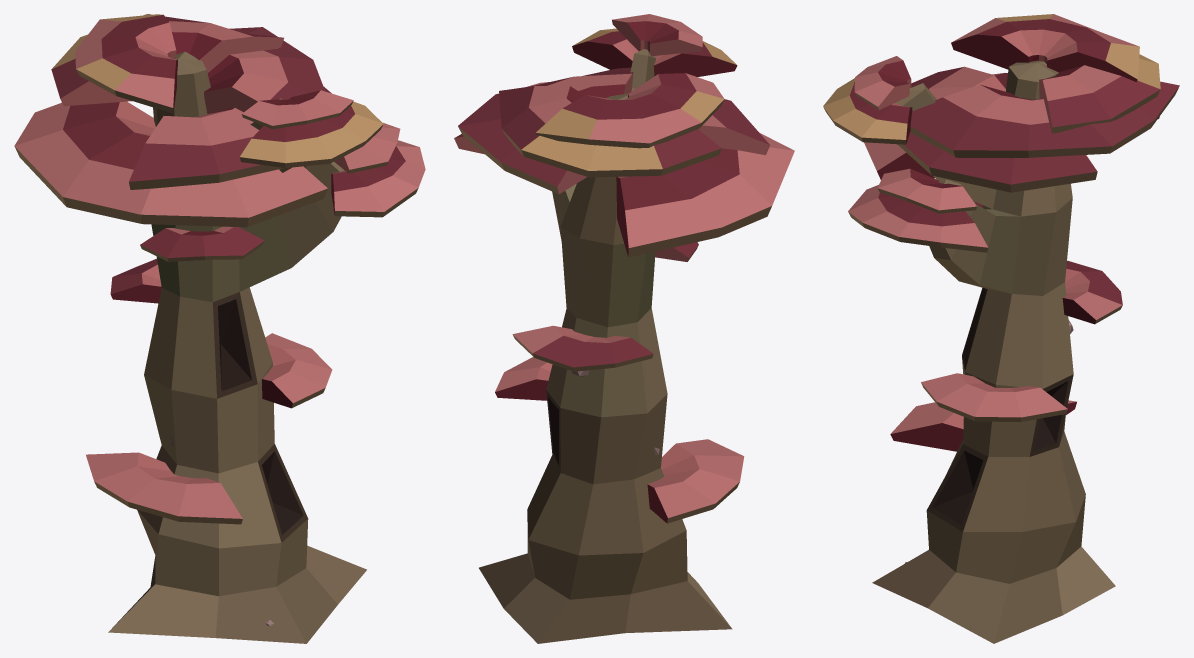
File: Shroombark_Tree.glb
The picture shows the model from 3 angles, left to right: view 1: azimuth 30°, elevation 25°; view 2: azimuth 150°, elevation 25°; view 3: azimuth 270°, elevation 25°; orthographic projection. The views are drawn at different scales.
Parts seen in each view (by area): view 1: Shroombark_Tree; view 2: Shroombark_Tree; view 3: Shroombark_Tree.
Boxes of the visible parts, x1=… form: Shroombark_Tree: x1=14, y1=14, x2=425, y2=643; Shroombark_Tree: x1=454, y1=14, x2=794, y2=643; Shroombark_Tree: x1=823, y1=14, x2=1179, y2=643.
Bounding box in the file's own units: 3.97 × 6.43 × 3.98.
